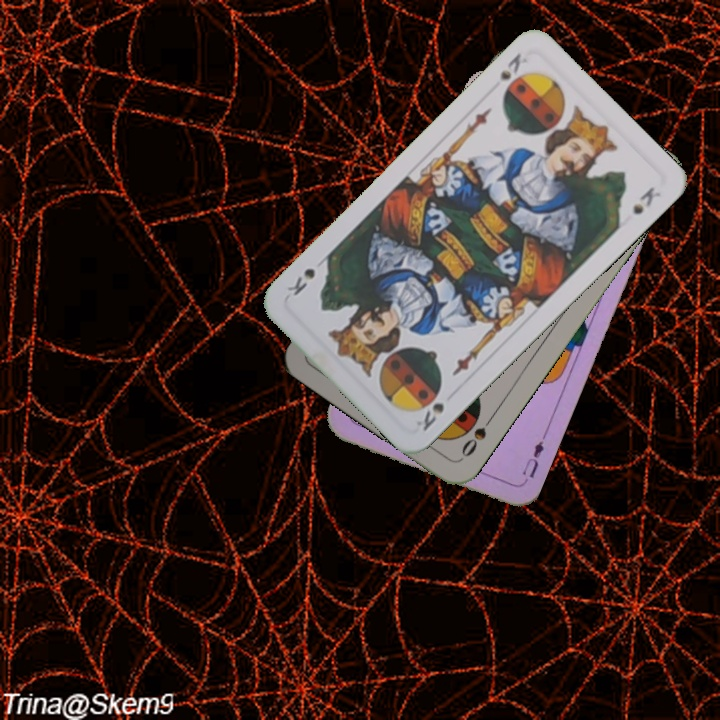EU: (516, 432, 548, 488)
SK: (496, 49, 530, 83), (418, 399, 447, 434)
SO: (457, 412, 496, 460)
